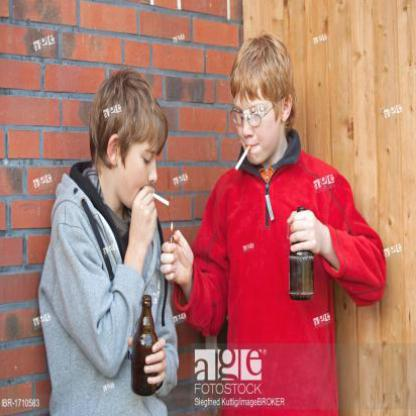cigarette: (234, 144, 252, 172), (150, 191, 172, 209)
person: (210, 36, 352, 415), (40, 60, 176, 416)
